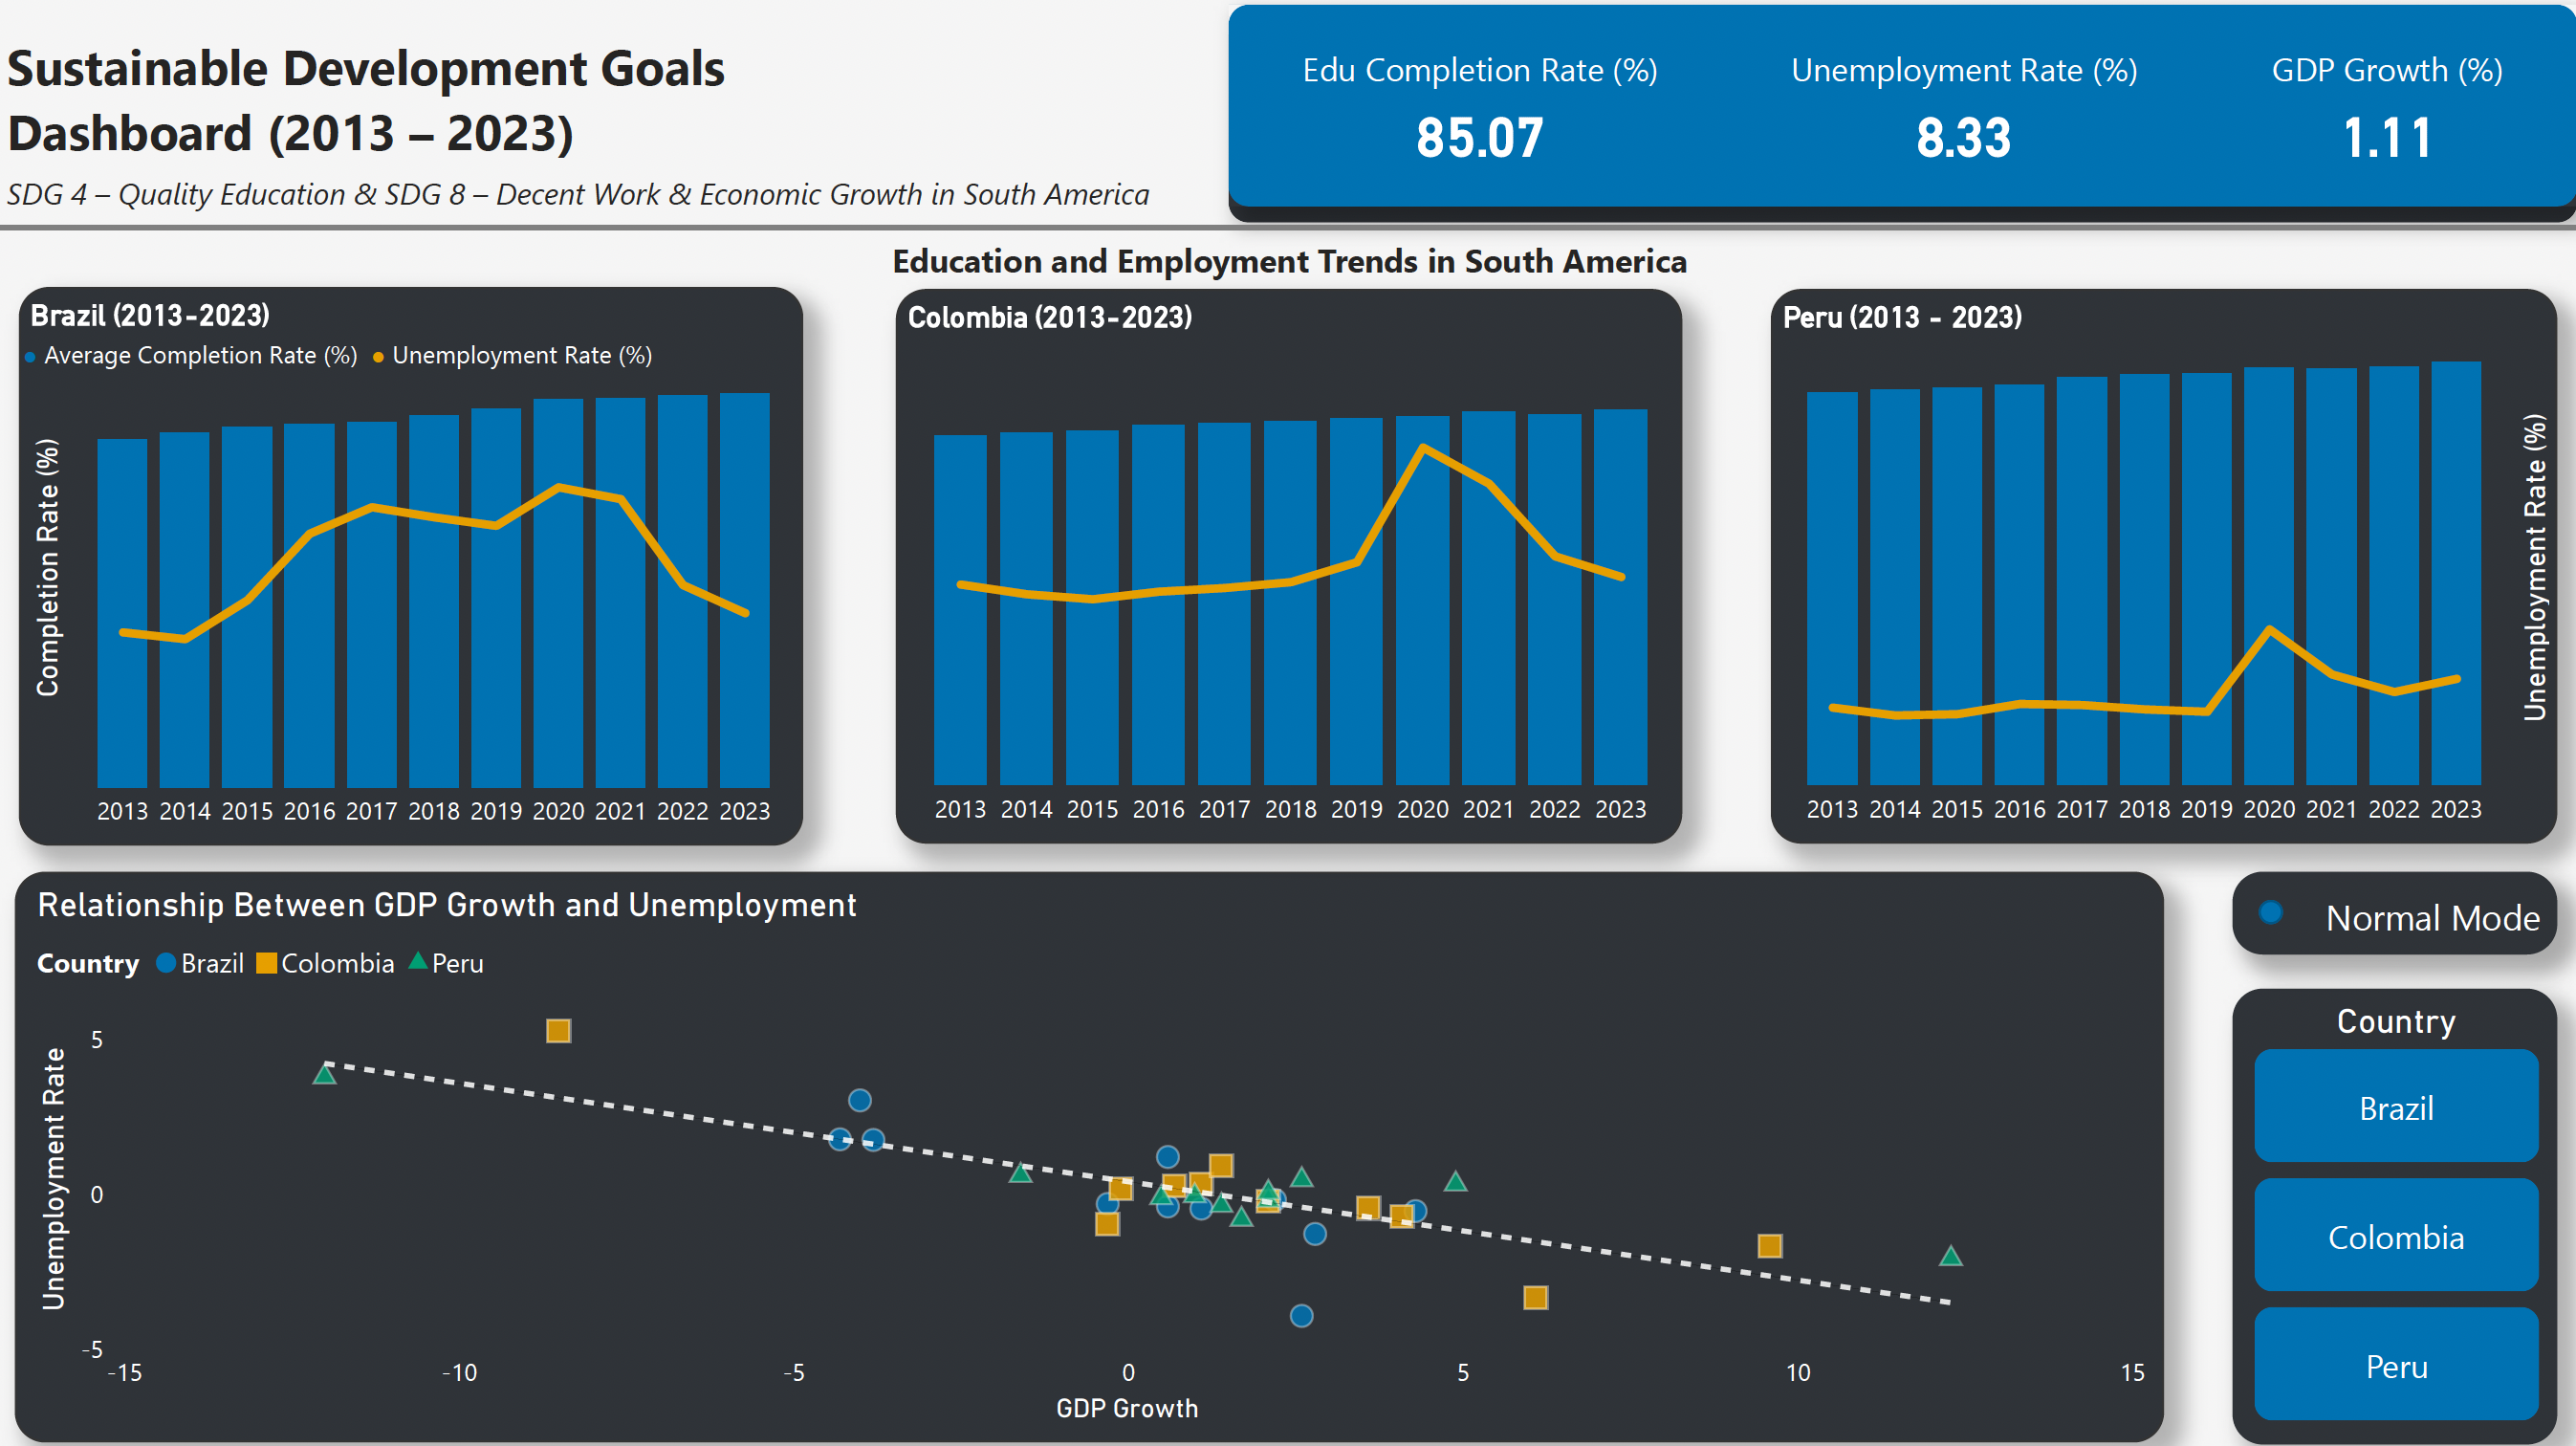

Layout of this report page (visuals, bound fields, positions):
{"tool":"powerbi","page":{"name":"Dashboard - Accessible","canvas":[1280,720],"ordinal":0},"visuals":[{"type":"shape","box":[611.4,8.6,668.6,102.9],"z":0},{"type":"scatterChart","title":"Relationship Between GDP Growth and Unemployment","fields":{"Series":["Indicator 8 5 2 - Unemployment.Country"],"X":["Indicators Merged.GDP Growth (%)"],"Y":["Indicators Merged.Unemployment Rate (%)"]},"box":[8.6,432.5,1066.2,283.6],"z":1000},{"type":"advancedSlicerVisual","fields":{"Values":["CountryTable.Country"]},"box":[1108.6,491.4,161.4,225.7],"z":2000},{"type":"textbox","box":[0,0,611.7,136.7],"z":3000},{"type":"shape","box":[611.4,2.9,668.6,100],"z":4000},{"type":"cardVisual","fields":{"Data":["Indicator 4 1 2 - Education AVG.Avg Completion Rate"]},"box":[625.4,6.8,217.5,90.5],"z":5000},{"type":"cardVisual","fields":{"Data":["Original - Indicator 8 5 2 - Unemployment.Avg Unemployment Rate"]},"box":[867.2,6.8,218.8,90.5],"z":6000},{"type":"cardVisual","fields":{"Data":["Indicator 8 1 1 - GDP Growth.GDP Growth (%)"]},"box":[1098.2,6.8,182.4,90.5],"z":7000},{"type":"textbox","box":[0,81.4,588.6,37.1],"z":8000},{"type":"lineClusteredColumnComboChart","title":"Brazil (2013-2023)","fields":{"Category":["DimYear.Year"],"Y":["Indicator 4 1 2 - Education AVG.Average Completion Rate"],"Y2":["Original - Indicator 8 5 2 - Unemployment.Unemployment Rate (%)"]},"box":[10.8,143,389,276.9],"z":9000},{"type":"lineClusteredColumnComboChart","title":"Colombia (2013-2023)","fields":{"Category":["DimYear.Year"],"Y":["Indicator 4 1 2 - Education AVG.Average Completion Rate"],"Y2":["Original - Indicator 8 5 2 - Unemployment.Unemployment Rate (%)"]},"box":[445.7,143.5,390,275.7],"z":10000},{"type":"lineClusteredColumnComboChart","title":"Peru (2013 - 2023)","fields":{"Category":["DimYear.Year"],"Y":["Indicator 4 1 2 - Education AVG.Average Completion Rate"],"Y2":["Original - Indicator 8 5 2 - Unemployment.Unemployment Rate (%)"]},"box":[880,143.5,390,275.7],"z":11000},{"type":"textbox","box":[8.1,162.1,366.1,28.4],"z":12000},{"type":"shape","box":[0,104.3,1280,18.6],"z":13000},{"type":"textbox","box":[438.6,118.6,474.3,31.4],"z":14000},{"type":"actionButton","title":"Normal Mode","box":[1108.6,432.9,161.4,41.4],"z":15000,"group":"g1"},{"type":"shape","box":[1121.2,447.2,12.2,12.2],"z":16000,"group":"g1"},{"type":"group","id":"g1","title":"Group 1","box":[1108.6,432.9,161.4,41.4],"z":16001}]}

Visuals, with their boxes in screenshot pixels (x1, y1, x2, y2), scaled from the page's 1280x720 canvas onto the 2576x1446 screenshot:
shape: bbox(1231, 17, 2575, 224)
"Relationship Between GDP Growth and Unemployment" scatterChart: bbox(17, 868, 2163, 1438)
advancedSlicerVisual - CountryTable.Country: bbox(2231, 987, 2556, 1440)
textbox: bbox(0, 0, 1231, 274)
shape: bbox(1231, 6, 2575, 207)
cardVisual - Indicator 4 1 2 - Education AVG.Avg Completion Rate: bbox(1258, 13, 1696, 195)
cardVisual - Original - Indicator 8 5 2 - Unemployment.Avg Unemployment Rate: bbox(1745, 13, 2186, 195)
cardVisual - Indicator 8 1 1 - GDP Growth.GDP Growth (%): bbox(2210, 13, 2575, 195)
textbox: bbox(0, 164, 1185, 238)
"Brazil (2013-2023)" lineClusteredColumnComboChart: bbox(22, 287, 804, 843)
"Colombia (2013-2023)" lineClusteredColumnComboChart: bbox(897, 288, 1682, 842)
"Peru (2013 - 2023)" lineClusteredColumnComboChart: bbox(1771, 288, 2556, 842)
textbox: bbox(16, 325, 753, 383)
shape: bbox(0, 209, 2575, 247)
textbox: bbox(883, 238, 1837, 301)
"Normal Mode" actionButton: bbox(2231, 869, 2556, 953)
shape: bbox(2257, 898, 2281, 923)
"Group 1" group: bbox(2231, 869, 2556, 953)
